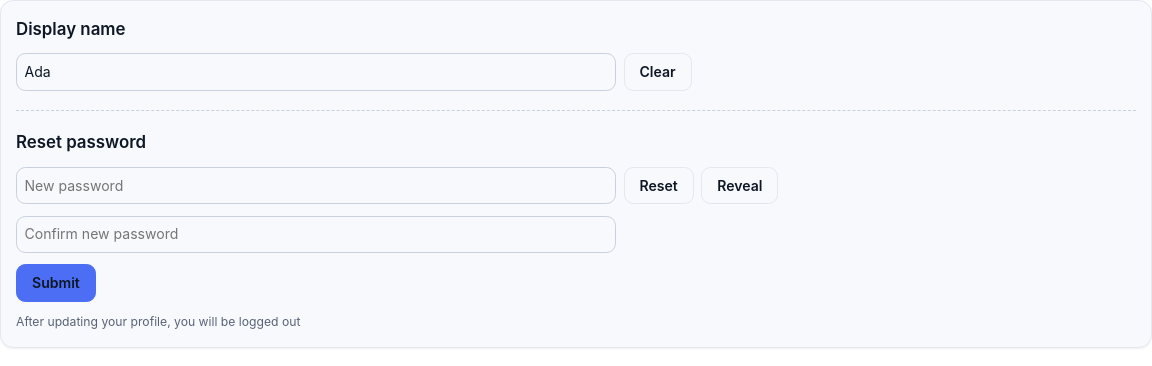
Test case: EditProfileSettings controls › clears the password fields with Reset
Step 1. Type "abc" into the password field labelled "New password" → x=316, y=186, box [16,167,616,204]
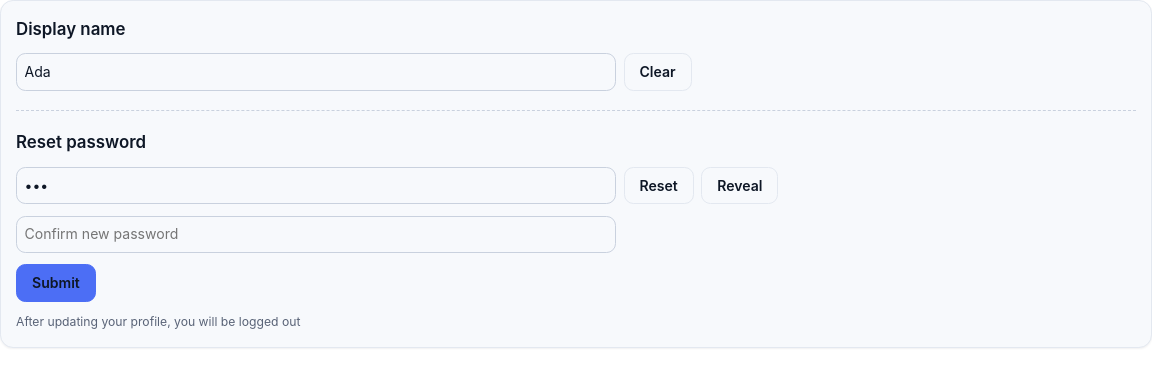
Step 2. Click the button "Reset" → x=659, y=186, box [624,167,694,204]
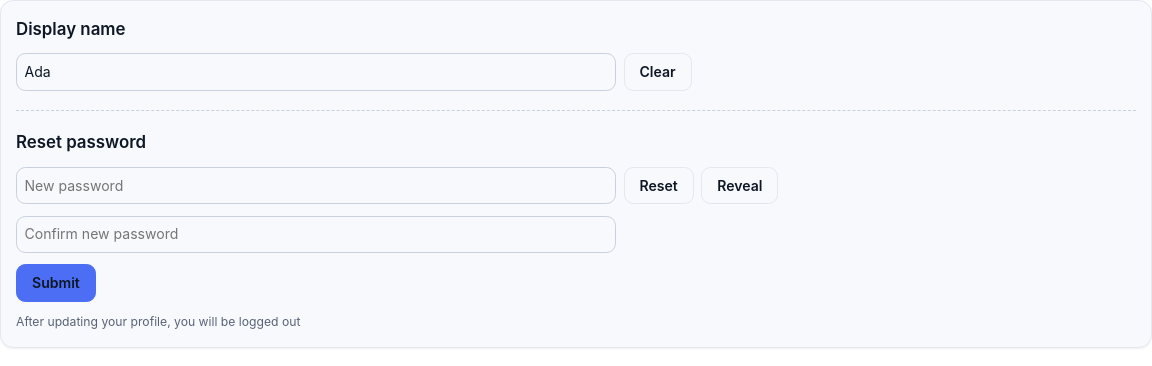
Check: the password field labelled "New password" is empty, box [16,167,616,204]
